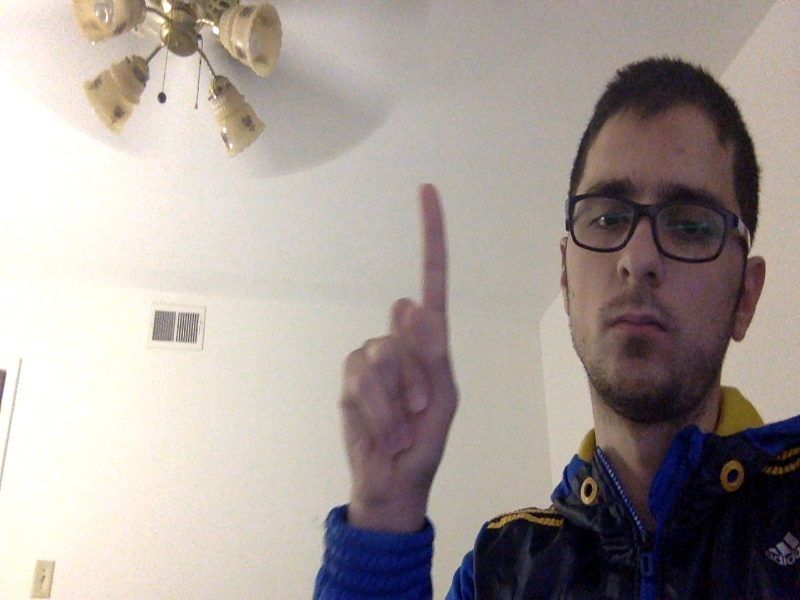1-hand: (339, 182, 465, 482)
